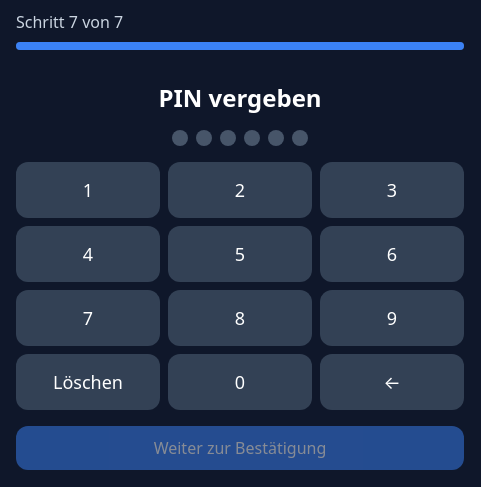
Scenario: SetupWizard › pressDigit: ← backspaces the last character
Click the button "1".
click(88, 190)  # box [16,162,160,218]
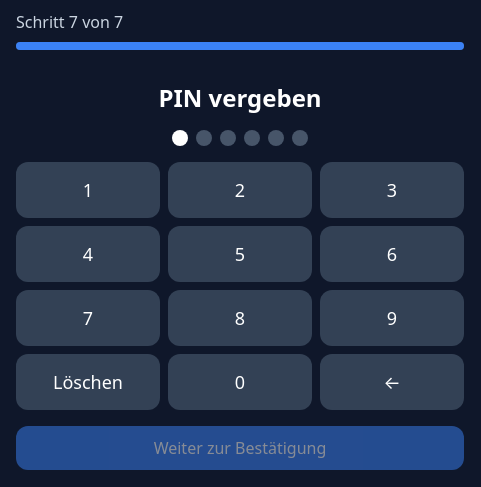
Click the button "2".
click(240, 190)  # box [168,162,312,218]
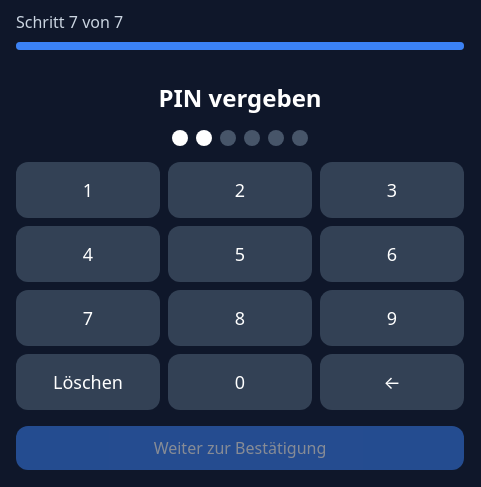
Click the button "3".
click(392, 190)  # box [320,162,464,218]
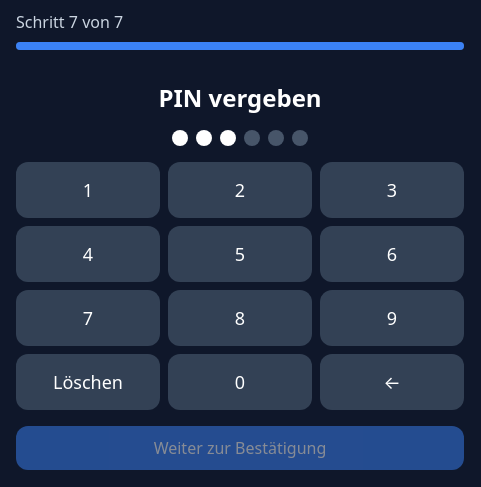
Click the button "4".
click(88, 254)  # box [16,226,160,282]
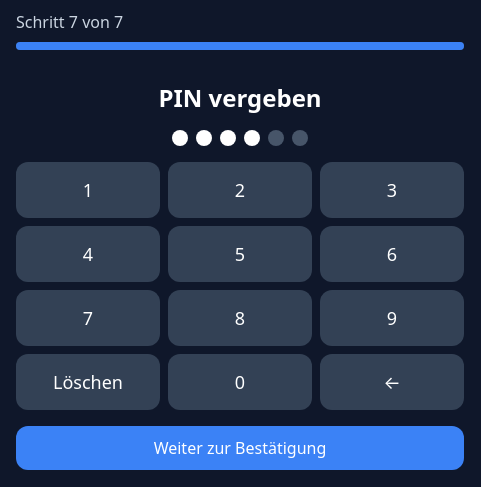
Expected: the button "Weiter zur Bestätigung" is enabled, [16,426,464,470]
Click the button "←".
click(392, 382)  # box [320,354,464,410]
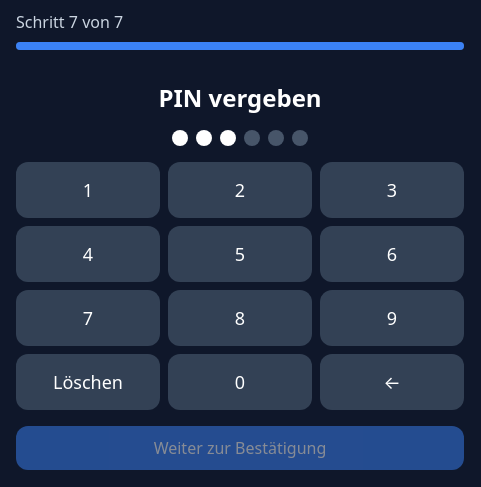
Expected: the button "Weiter zur Bestätigung" is disabled, [16,426,464,470]
